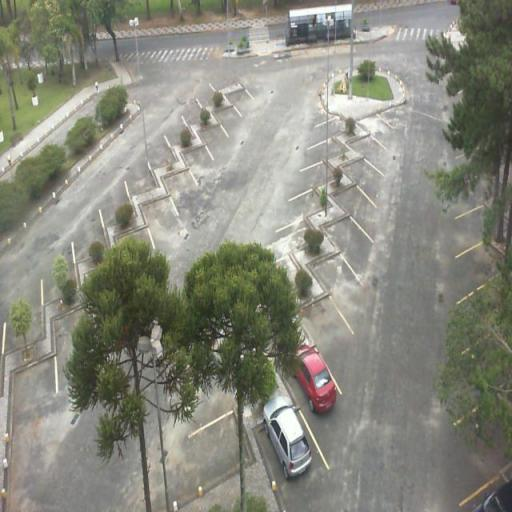Slot-empty: (11, 354, 63, 448), (306, 286, 358, 358), (313, 243, 364, 304), (329, 211, 377, 264), (143, 194, 180, 250), (342, 154, 390, 197), (346, 132, 394, 169), (163, 168, 201, 214), (338, 185, 380, 226), (222, 83, 268, 119), (357, 111, 398, 143), (199, 123, 233, 160), (214, 105, 248, 139), (186, 146, 213, 178)
Slot-occupied: (252, 394, 322, 482), (272, 340, 350, 416)
